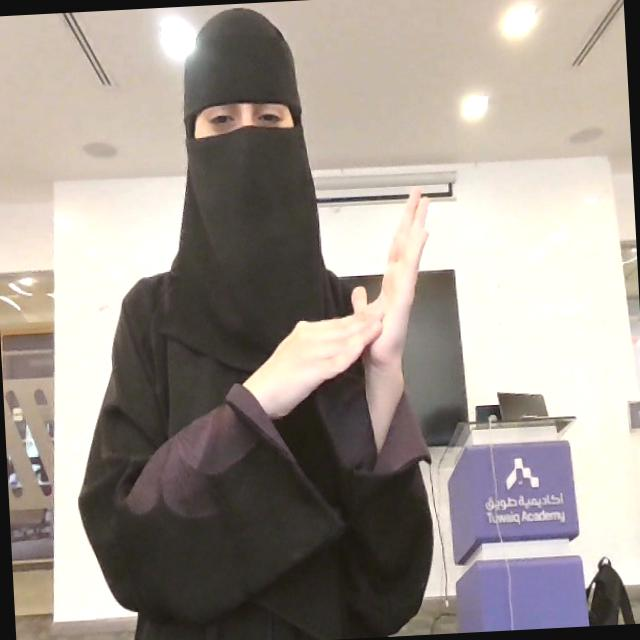complaint: (241, 177, 447, 429)
